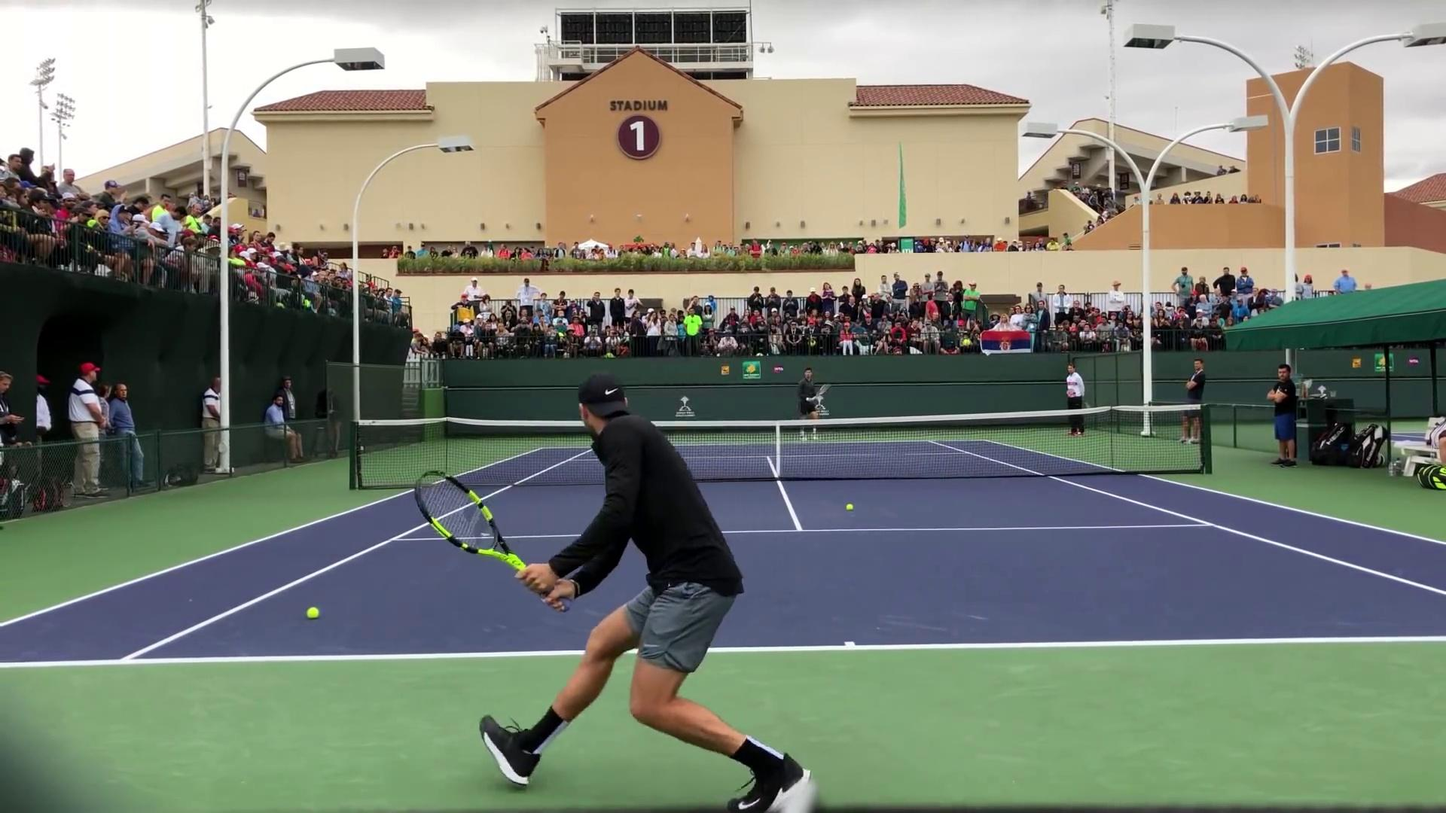ball: (306, 606, 319, 619), (846, 502, 854, 512)
